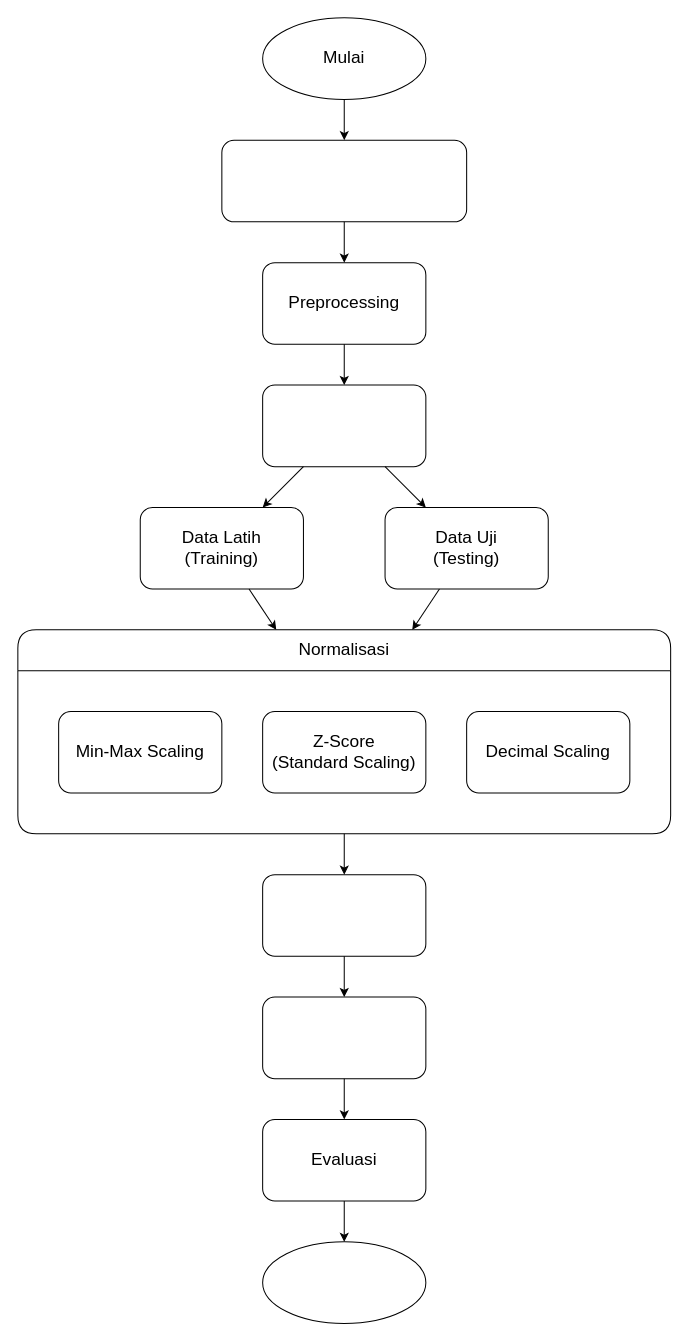
This 689x1341 diagram has some shape labels left out. The shapes that lost their labels are listed below. From the top down, each one's centre as x and y in pixels, then its label:
At point (344, 180): "Pengumpulan Data: Pima Indians Diabetes Database (Kaggle)".
At point (344, 425): "Pembagian Data".
At point (344, 915): "Pemilihan Fitur".
At point (344, 1037): "Model K-NN".
At point (344, 1282): "Selesai".
